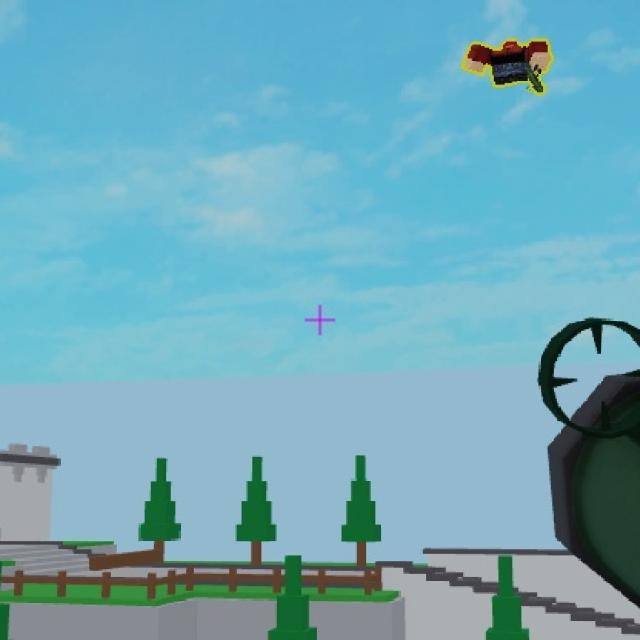player: (477, 30, 561, 102)
